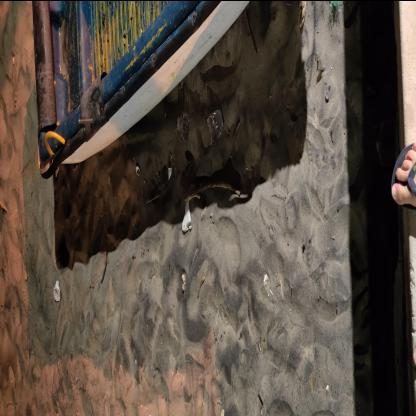plastik: (206, 108, 224, 144), (177, 110, 189, 140)
